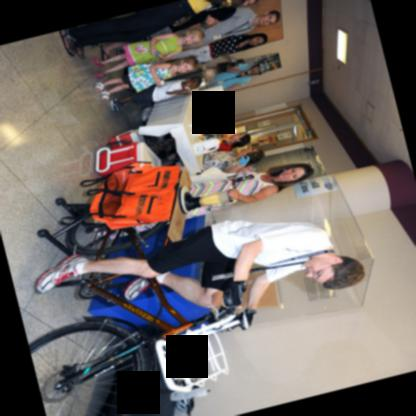handbag: (187, 166, 238, 185)
